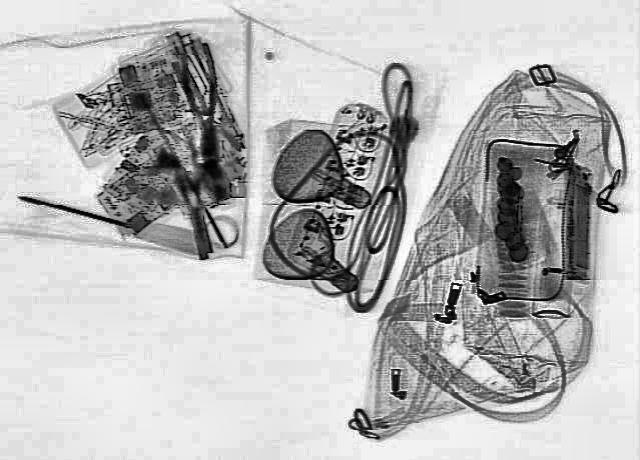Pliers: (172, 43, 230, 164)
